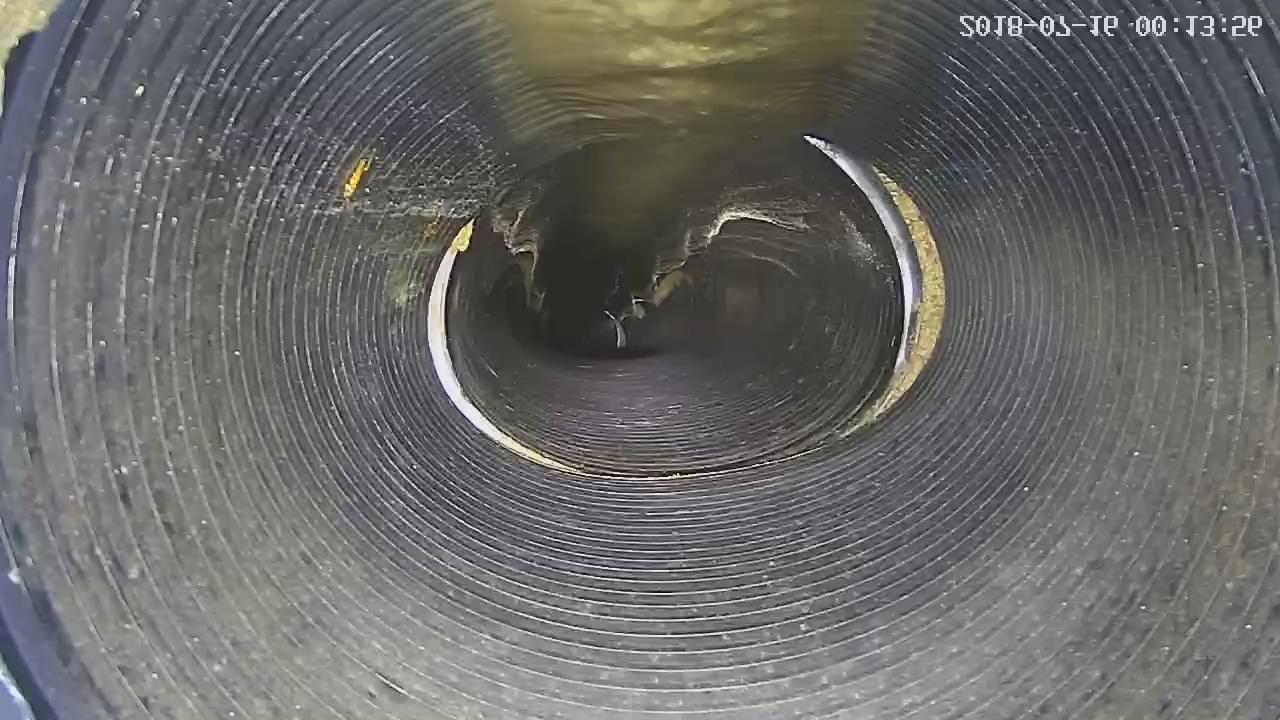CKTJ: (804, 136, 950, 439), (427, 215, 582, 474)
